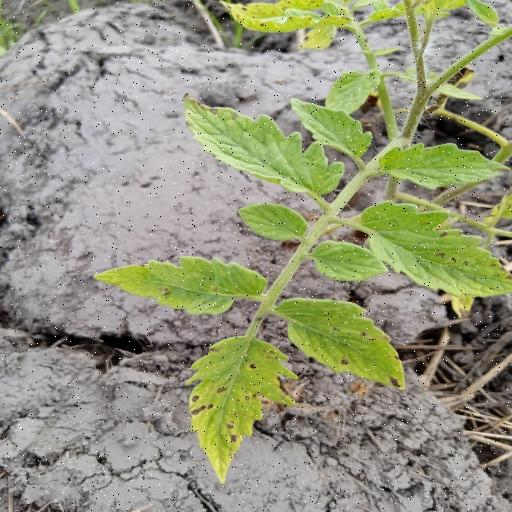Tomato_Brown_Spots: (180, 95, 346, 200), (184, 334, 298, 486), (352, 198, 512, 298), (279, 294, 408, 388), (92, 255, 269, 316)
